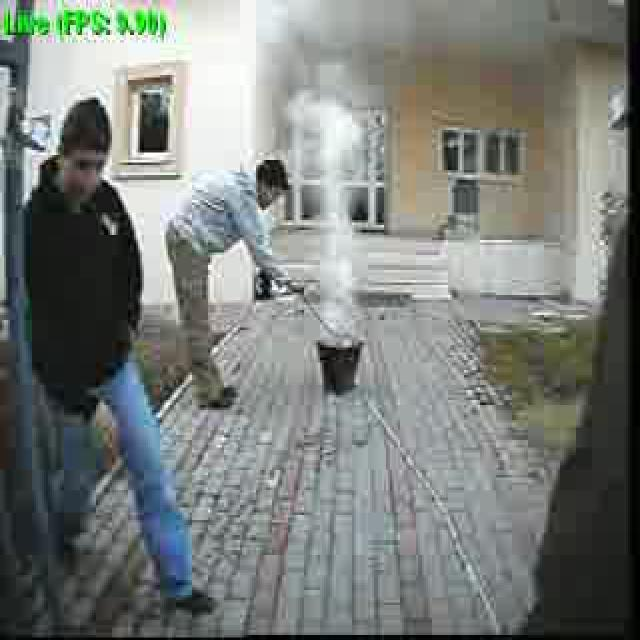Smoke: (300, 92, 378, 356)
